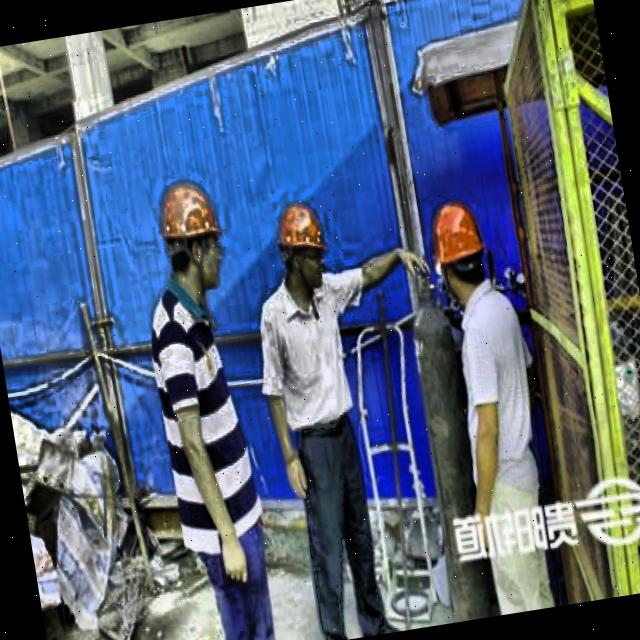helmet: (148, 164, 233, 306), (425, 189, 498, 313), (268, 193, 336, 305)
